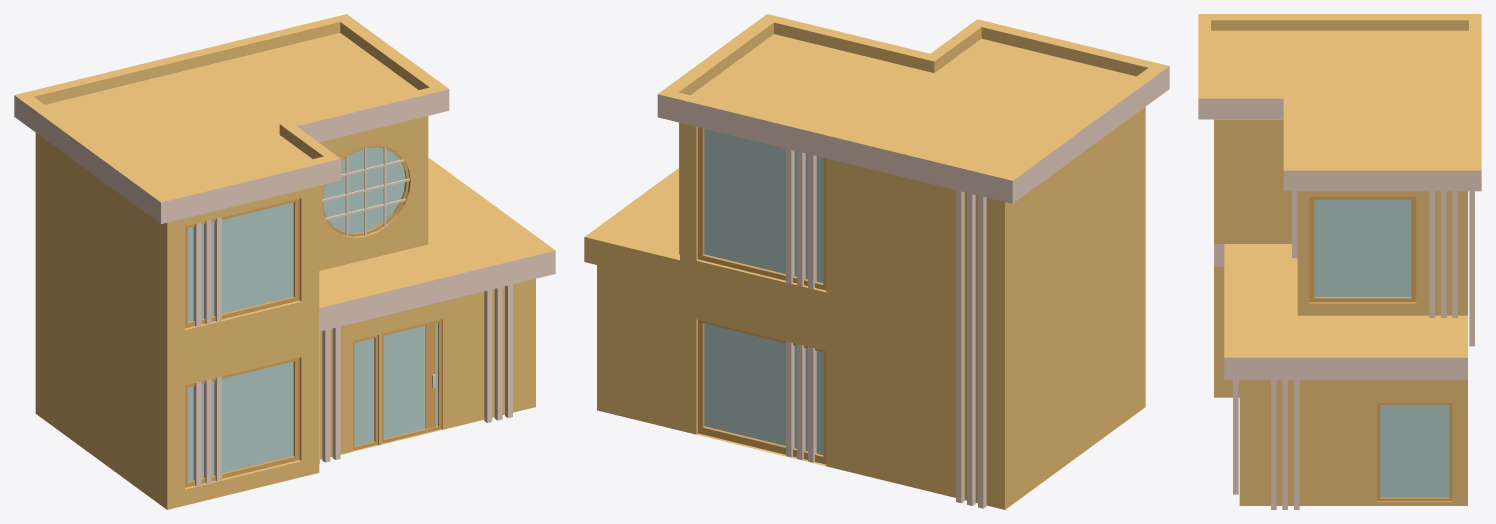
Rendered from yellow_house.glb.
The picture shows the model from 3 angles, left to right: view 1: azimuth 30°, elevation 25°; view 2: azimuth 150°, elevation 25°; view 3: azimuth 270°, elevation 25°; orthographic projection. The views are drawn at different scales.
Visible parts, largest first — view 1: body; view 2: body; view 3: body.
Boxes of the visible parts, <box> form: body: <box>14,14,555,509</box>; body: <box>584,14,1169,509</box>; body: <box>1198,14,1481,509</box>.
Size of the model in its own units: 8.25 by 6.14 by 5.14.
